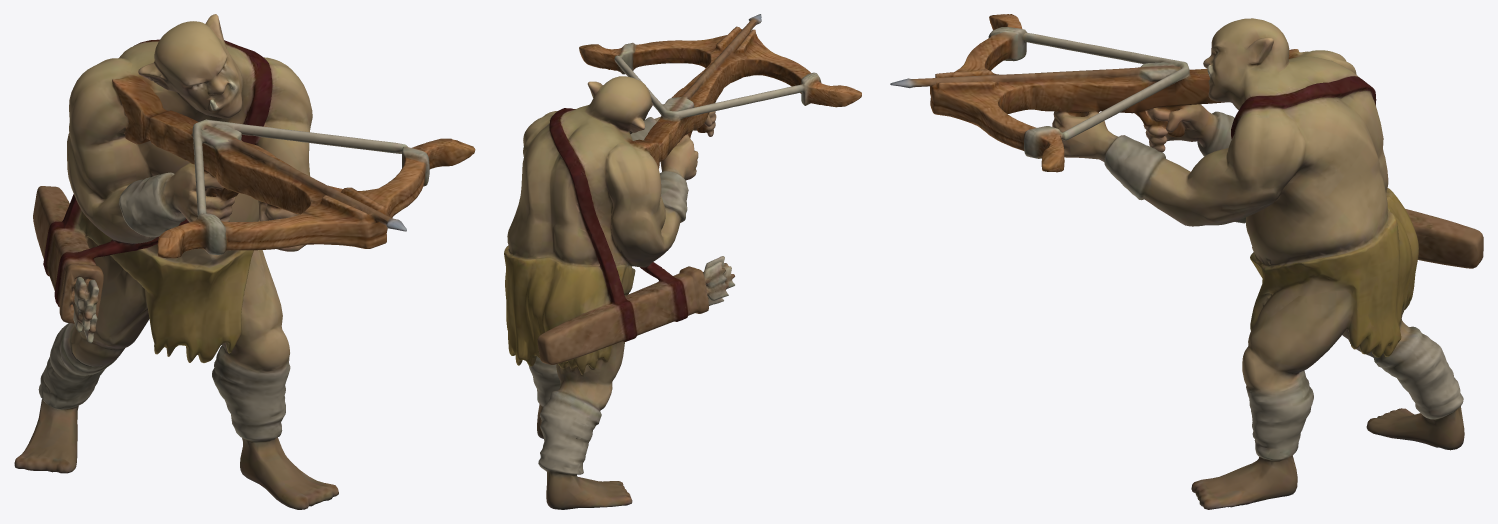
Rendered from MZ4250 - Ogre Bolt Launcher.glb.
3 views of the same model, side by side, from view 1: azimuth 30°, elevation 25°; view 2: azimuth 150°, elevation 25°; view 3: azimuth 270°, elevation 25° (orthographic). The views are drawn at different scales.
Visible parts, largest first — view 1: Ogre Bolt Launcher_low.002; view 2: Ogre Bolt Launcher_low.002; view 3: Ogre Bolt Launcher_low.002.
Part boxes in pixels (bbox=[...]): Ogre Bolt Launcher_low.002: bbox=[14, 14, 475, 509]; Ogre Bolt Launcher_low.002: bbox=[504, 14, 861, 509]; Ogre Bolt Launcher_low.002: bbox=[890, 14, 1483, 509].
Size of the model in its own units: 1.71 by 2.27 by 2.79.
Materials: 1 (1 with a texture image).
